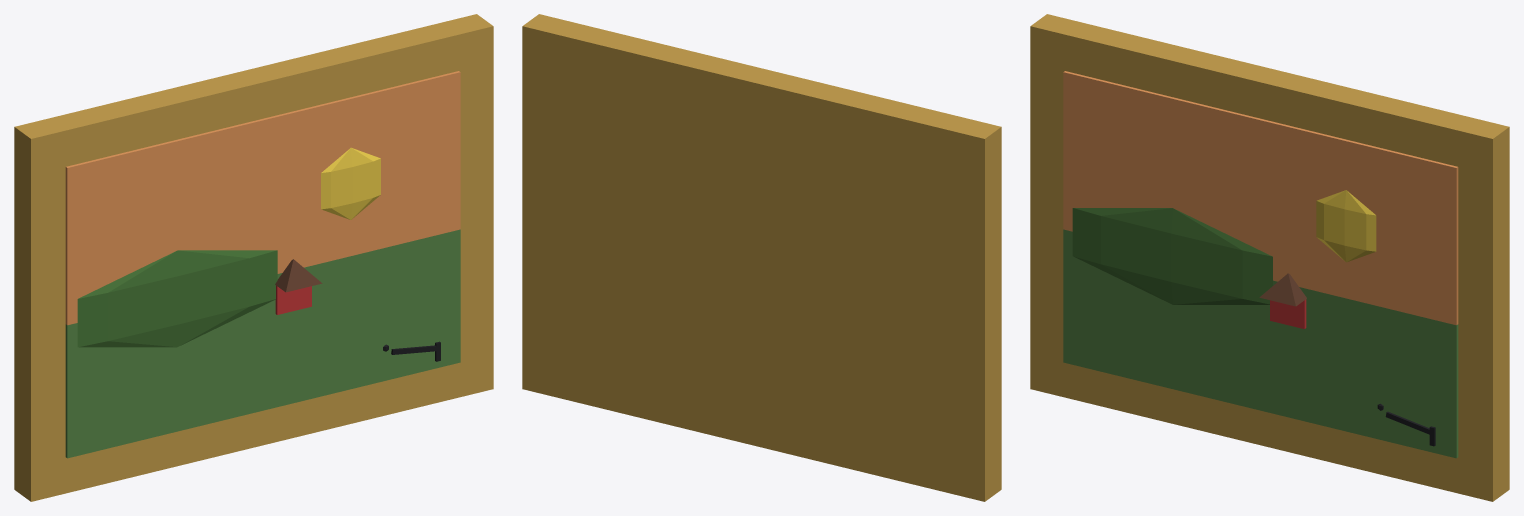
File: painting_real.glb
3 views of the same model, side by side, from view 1: azimuth 30°, elevation 25°; view 2: azimuth 150°, elevation 25°; view 3: azimuth 330°, elevation 25° (orthographic).
Parts seen in each view (by area): view 1: frame_frame_gold, sky_paint_sky, hills_paint_hills, hill_paint_hill, sun_paint_sun, roof_paint_roof, house_paint_house; view 2: frame_frame_gold; view 3: frame_frame_gold, sky_paint_sky, hills_paint_hills, hill_paint_hill, sun_paint_sun, roof_paint_roof, house_paint_house.
Boxes of the visible parts, x1,y1,x2,y2 form: frame_frame_gold: [14, 14, 493, 501]; sky_paint_sky: [65, 71, 460, 325]; hills_paint_hills: [65, 229, 460, 458]; hill_paint_hill: [77, 250, 277, 347]; sun_paint_sun: [321, 147, 380, 219]; roof_paint_roof: [275, 259, 322, 292]; house_paint_house: [275, 285, 311, 314]; frame_frame_gold: [522, 14, 1001, 501]; frame_frame_gold: [1030, 14, 1509, 501]; sky_paint_sky: [1063, 71, 1458, 325]; hills_paint_hills: [1063, 229, 1458, 458]; hill_paint_hill: [1072, 208, 1272, 304]; sun_paint_sun: [1316, 190, 1376, 262]; roof_paint_roof: [1259, 273, 1306, 306]; house_paint_house: [1270, 299, 1306, 328].
Size of the model in its own units: 0.8 by 0.6 by 0.0888.
